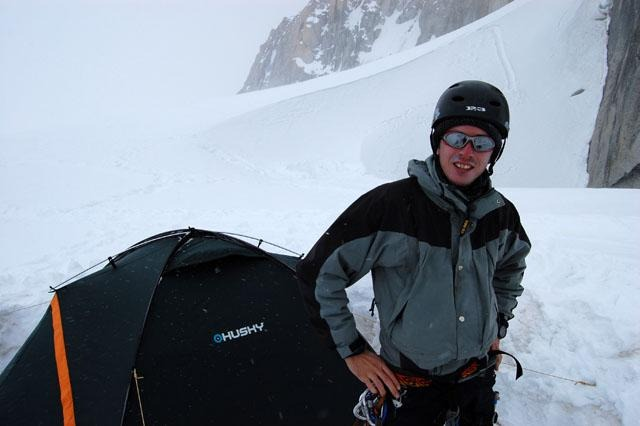helmet: (428, 77, 511, 144)
